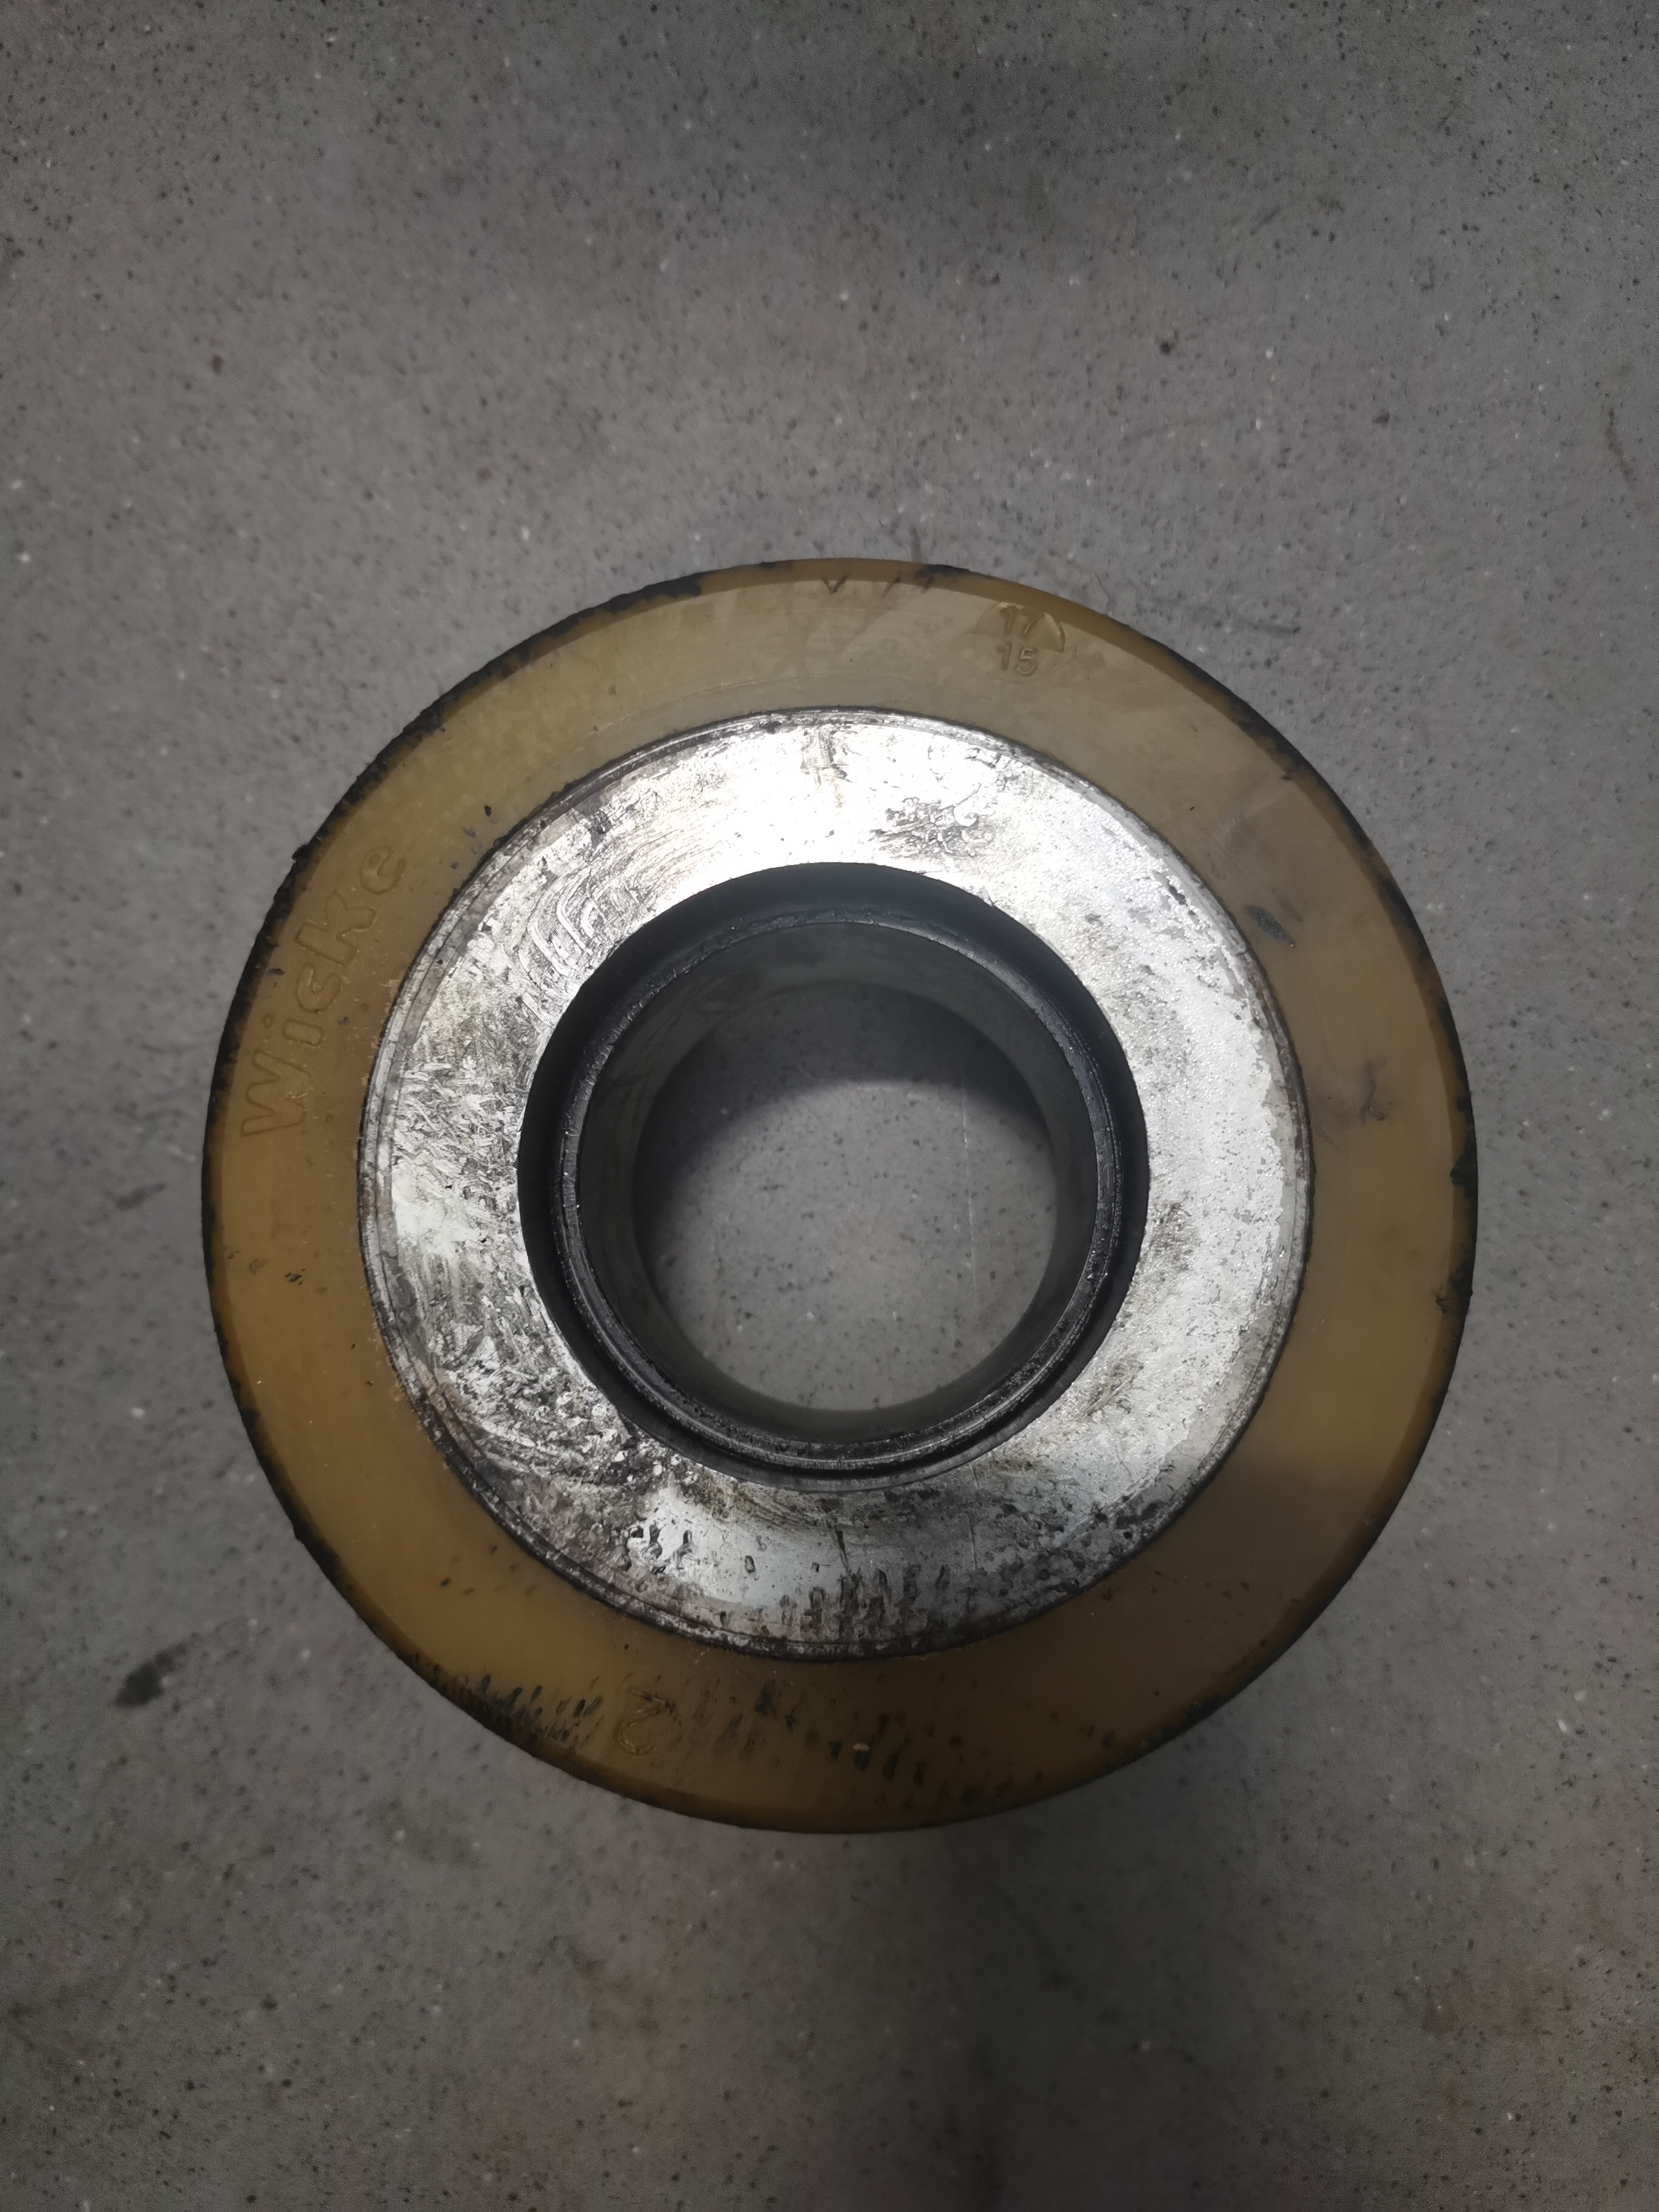bad_wheel: (448, 846, 1175, 1507)
